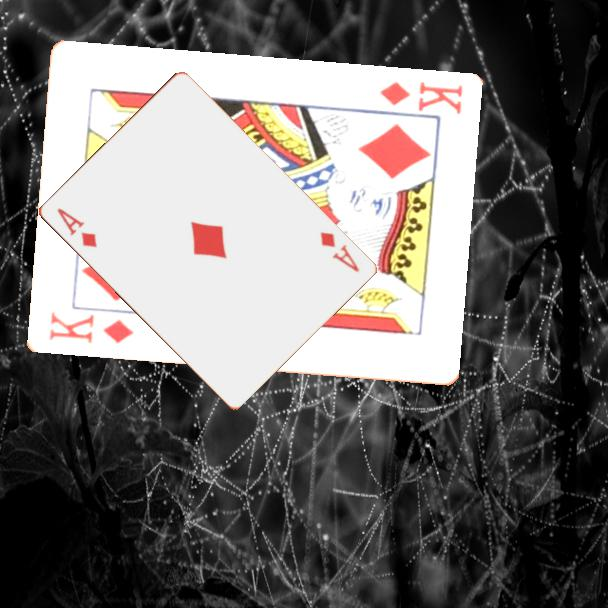d01: (53, 204, 100, 251), (316, 228, 362, 275)
d13: (376, 78, 465, 118), (45, 309, 136, 347)
